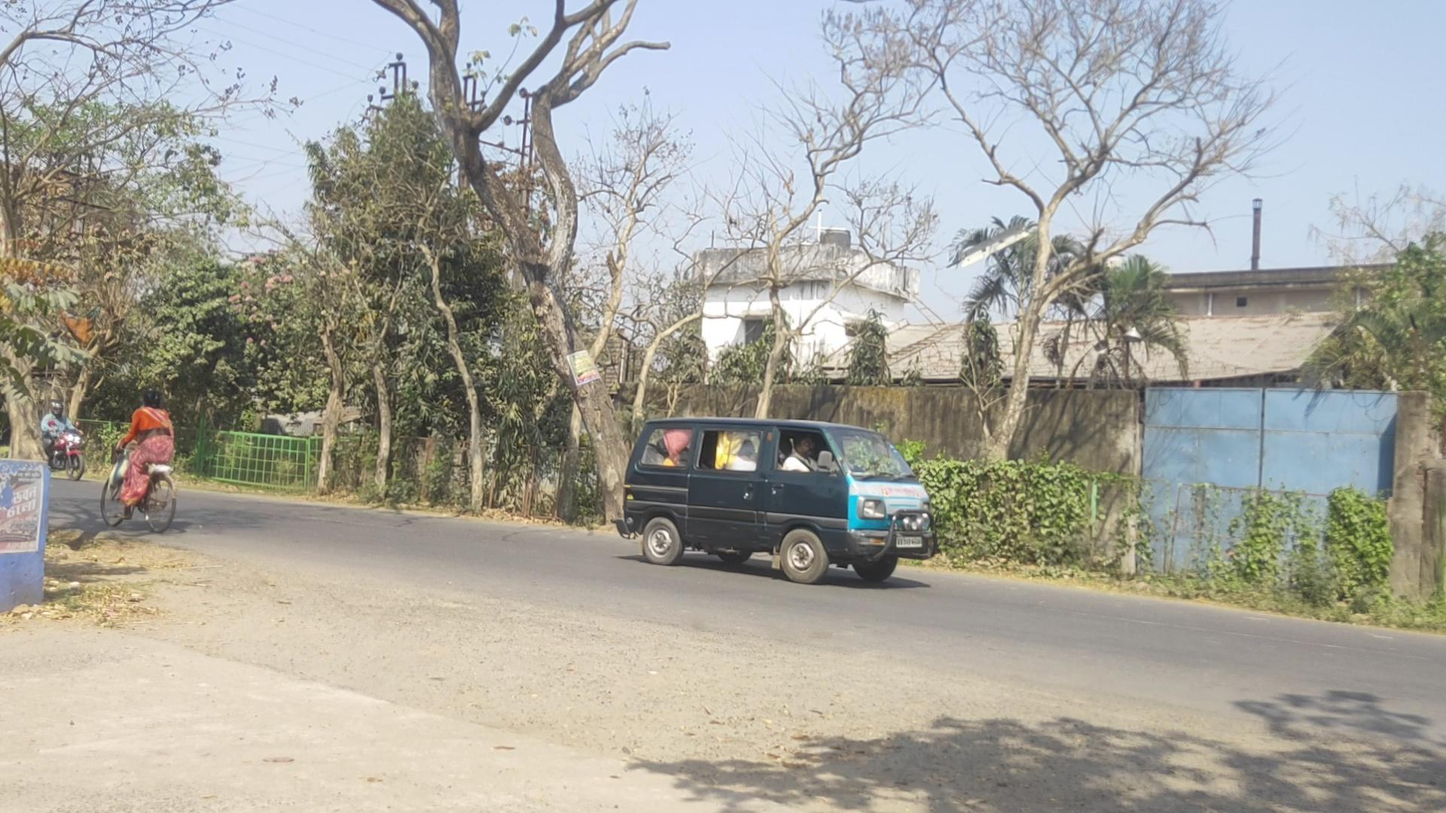bike: (100, 390, 178, 534), (35, 400, 87, 481)
van: (612, 416, 938, 585)
